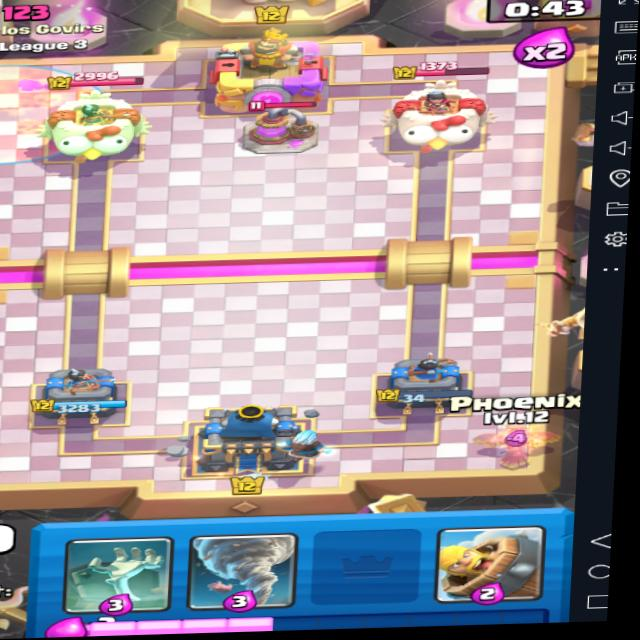elixir-collector: (237, 94, 332, 161)
